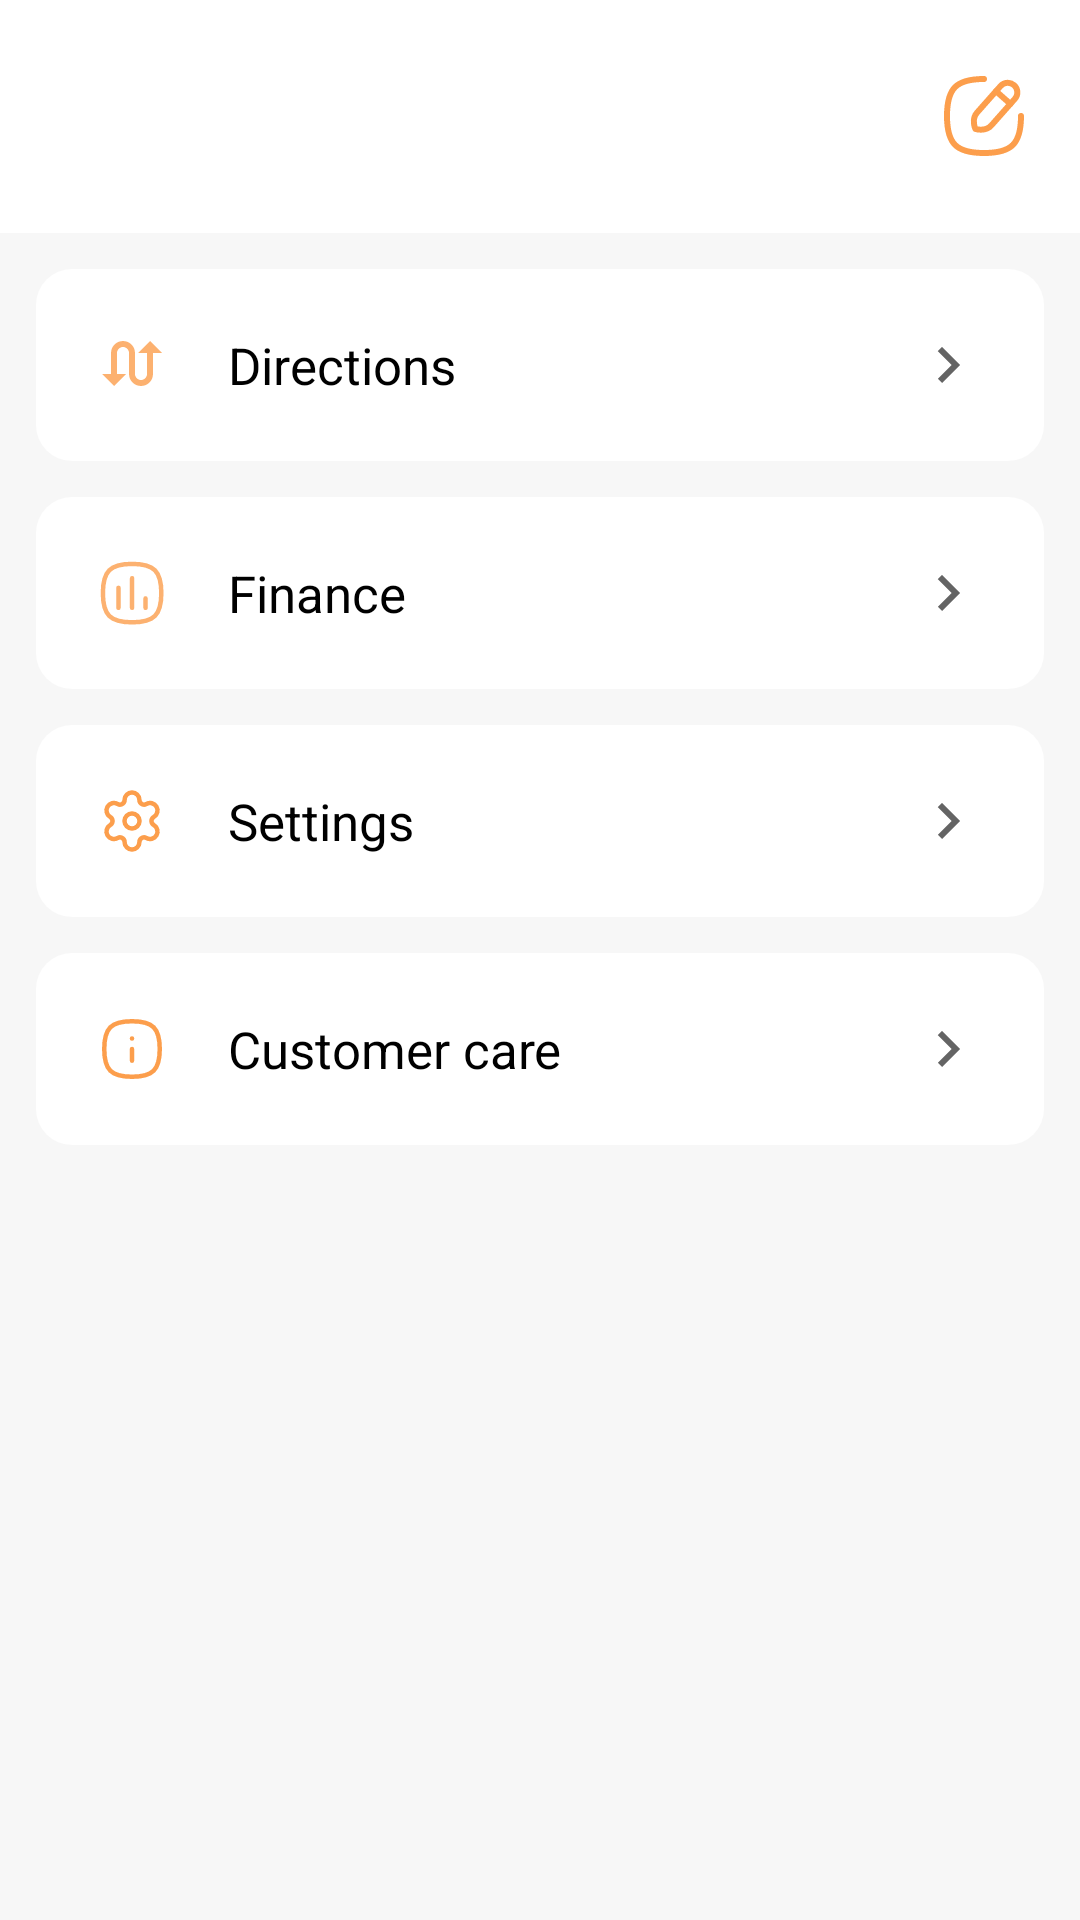

Icon click points for this 1080 × 1920 phone screenshot, format (x=x, y=y):
edit: (x=984, y=116)
info: (x=132, y=1049)
right: (x=949, y=365), (x=949, y=593), (x=949, y=821), (x=949, y=1049)
